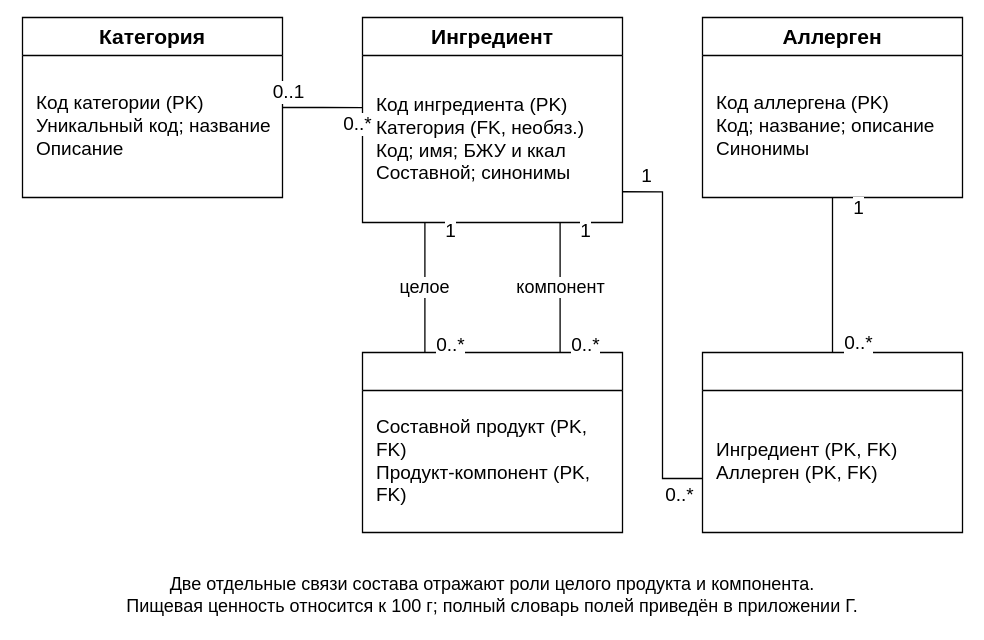
Some shapes in this 984 by 640 pixel diagram are drawn without their labels. The shapes that lost their labels are listed below. From the top down, each one's box as (x1, y1, x2, y2) in pixels, then its label:
(361, 351, 623, 533): Компонент ингредиента
(701, 351, 963, 533): Аллерген ингредиента
